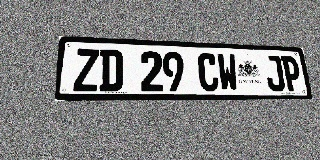2: (140, 51, 163, 91)
9: (162, 51, 185, 91)
C: (197, 53, 219, 91)
D: (99, 49, 123, 92)
J: (264, 55, 286, 91)
P: (281, 56, 303, 91)
W: (217, 53, 239, 91)
Z: (73, 48, 99, 92)
